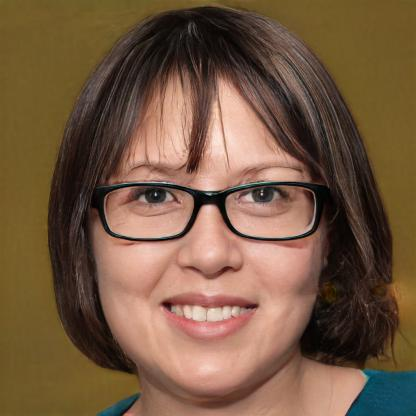glasses: (83, 179, 325, 248)
